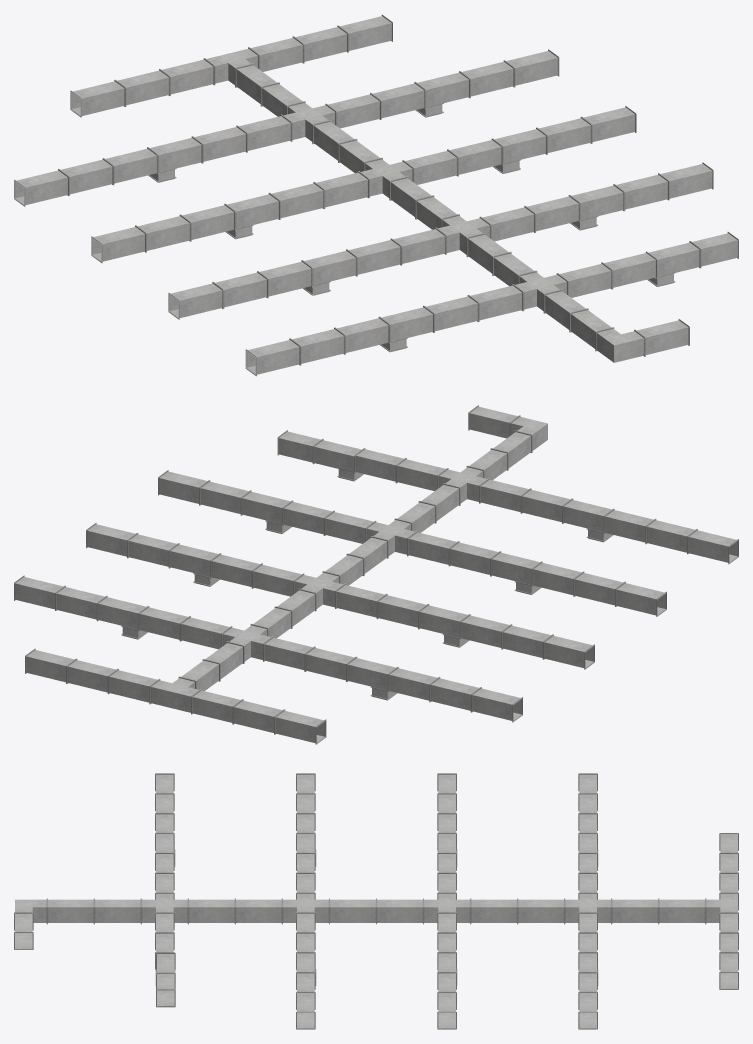
The model's file is GOInc_ServerVent.fbx.
The picture shows the model from 3 angles, top to bottom: view 1: azimuth 30°, elevation 25°; view 2: azimuth 150°, elevation 25°; view 3: azimuth 270°, elevation 25°; orthographic projection. The views are drawn at different scales.
Parts seen in each view (by area): view 1: SM_MERGED_MOD_SM_Air_ventilation_duct_01.mo; view 2: SM_MERGED_MOD_SM_Air_ventilation_duct_01.mo; view 3: SM_MERGED_MOD_SM_Air_ventilation_duct_01.mo.
Boxes of the visible parts, bbox=[...] form: SM_MERGED_MOD_SM_Air_ventilation_duct_01.mo: bbox=[14, 14, 738, 376]; SM_MERGED_MOD_SM_Air_ventilation_duct_01.mo: bbox=[14, 405, 738, 744]; SM_MERGED_MOD_SM_Air_ventilation_duct_01.mo: bbox=[14, 773, 738, 1029].
Size of the model in its own units: 2400 by 124 by 3083.
Materials: 1 (1 with a texture image).
